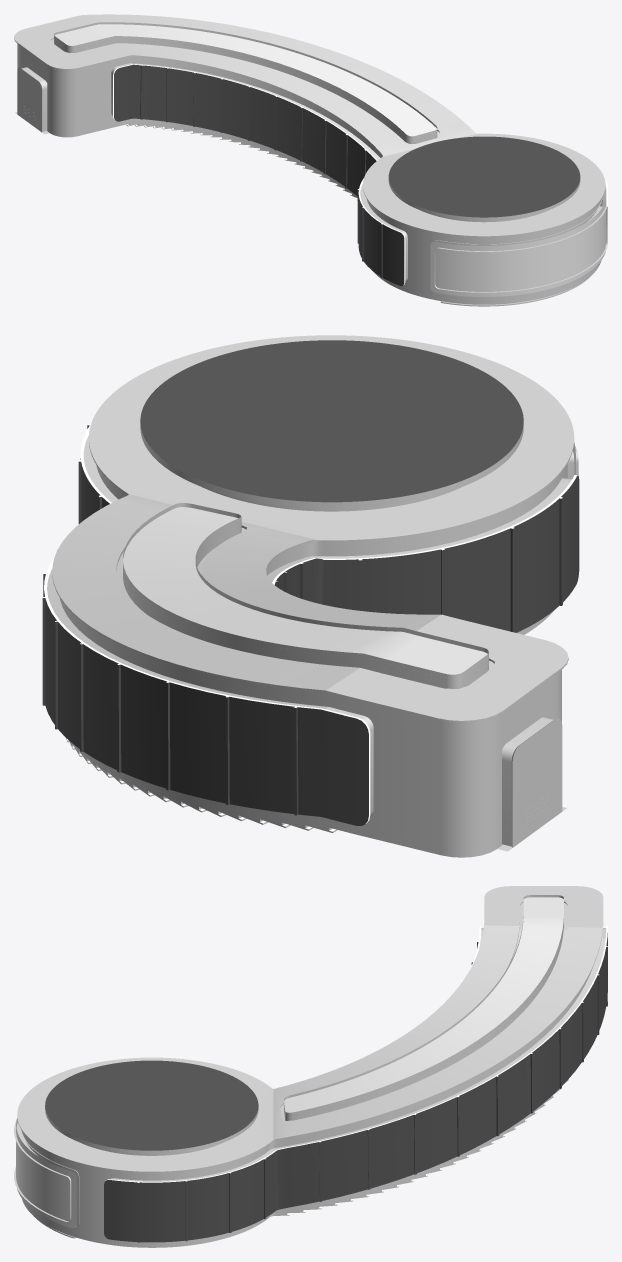
3 views of the same model, one above another, from view 1: azimuth 30°, elevation 25°; view 2: azimuth 150°, elevation 25°; view 3: azimuth 270°, elevation 25° (orthographic). The views are drawn at different scales.
Parts seen in each view (by area): view 1: Base, Glass; view 2: Base, Glass; view 3: Base, Glass.
Boxes of the visible parts, <box> form: Base: <box>14,14,607,306</box>; Glass: <box>54,24,606,296</box>; Base: <box>42,335,579,857</box>; Glass: <box>123,443,575,674</box>; Base: <box>14,886,607,1247</box>; Glass: <box>16,897,563,1228</box>.
Size of what is drawn, in the model's own units: 30.37 by 11.17 by 36.16.
2 materials, 1 textured.
